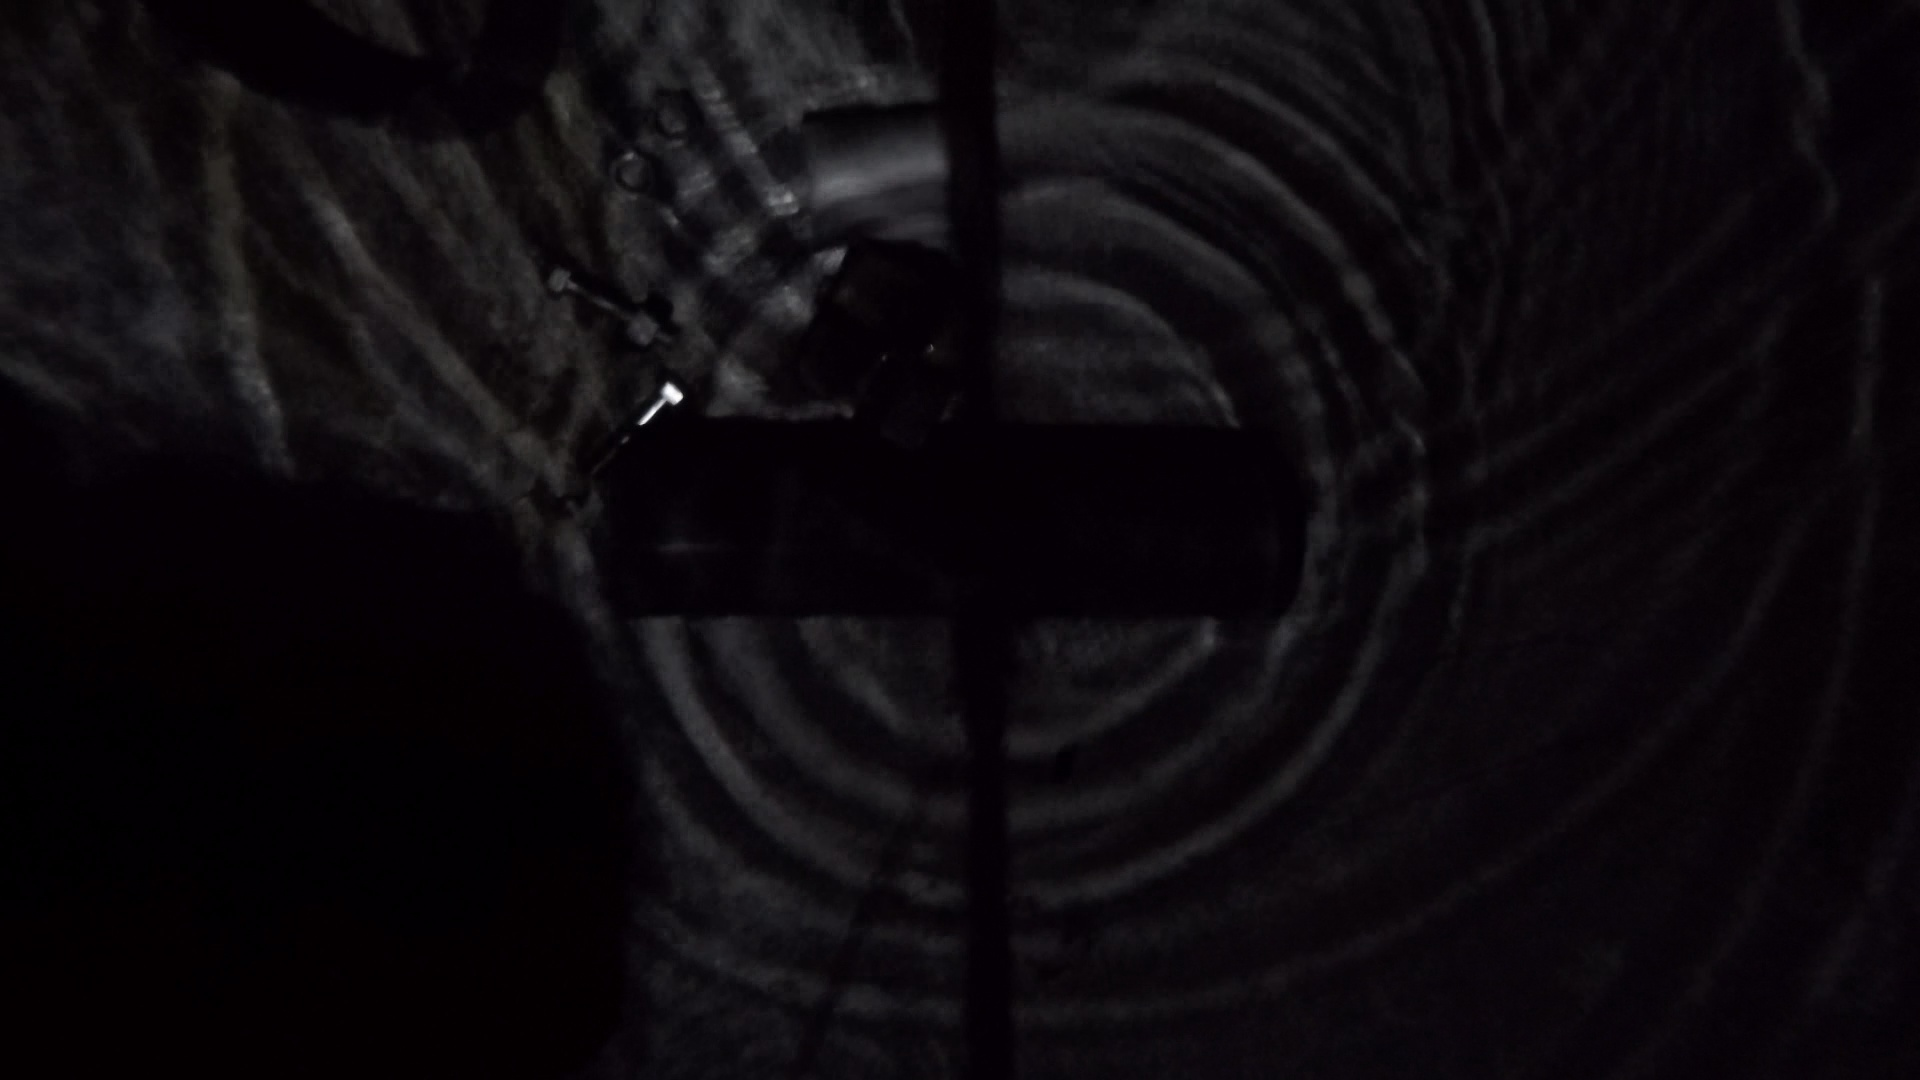bolt: (549, 262, 683, 349), (585, 381, 682, 477)
nut: (642, 90, 702, 148), (609, 146, 661, 200), (625, 294, 674, 349)
pipe: (601, 419, 1305, 622), (800, 113, 953, 204)
